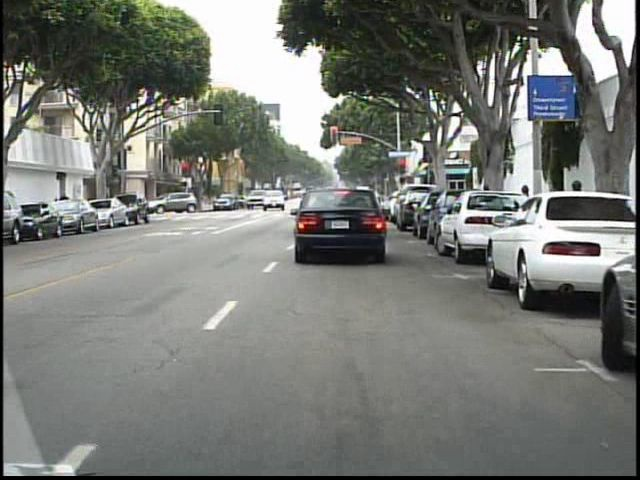person: (55, 187, 73, 225), (157, 190, 172, 217)
